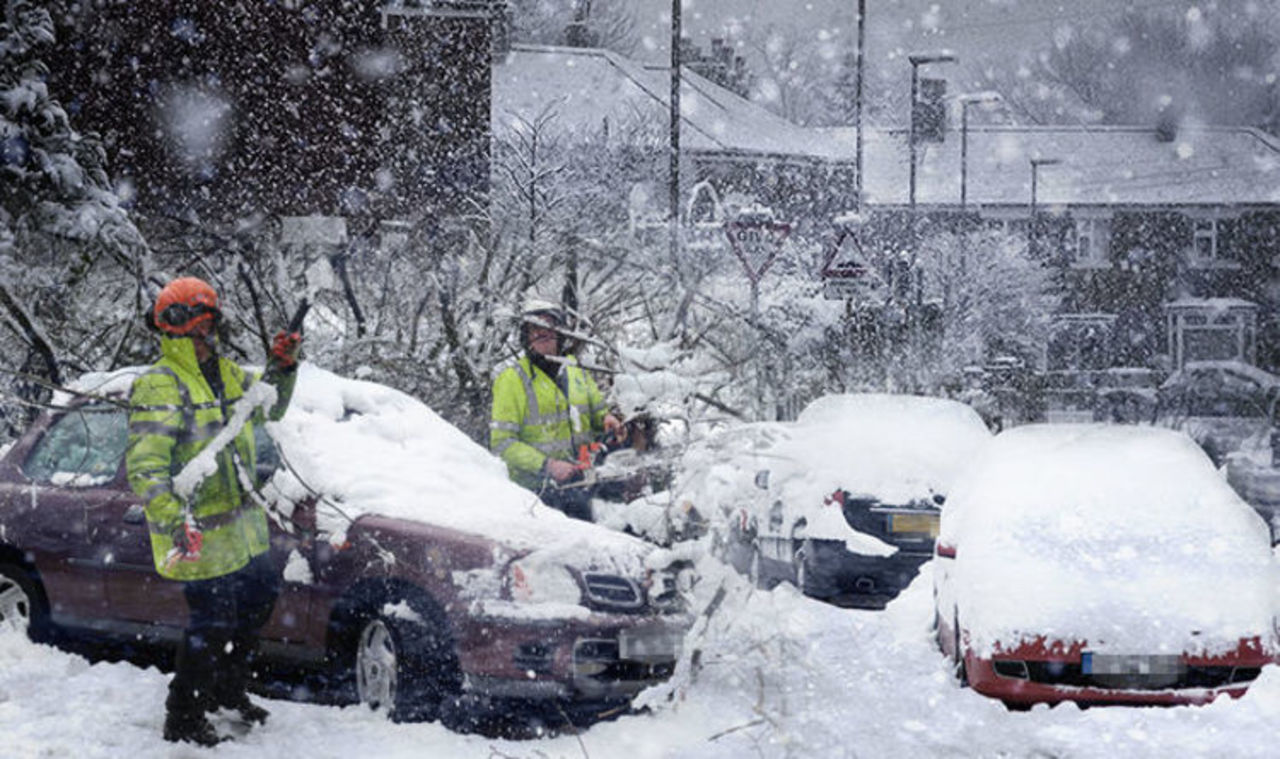car: (12, 347, 697, 730), (942, 433, 1279, 714), (751, 391, 973, 601), (1160, 357, 1272, 419)
person: (135, 285, 289, 744), (486, 303, 618, 489)
